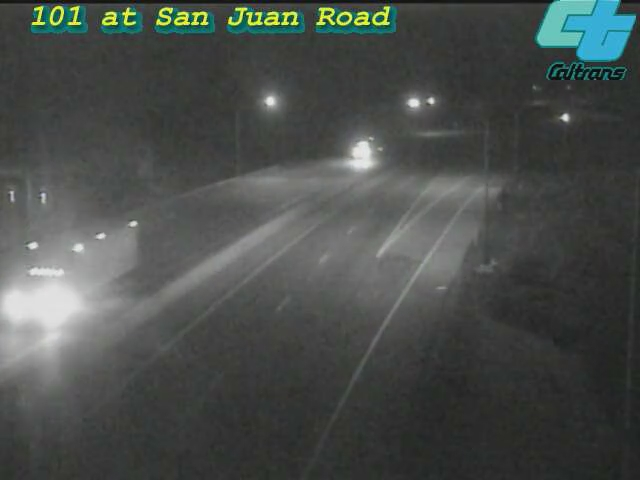vehicle: (31, 231, 111, 311), (325, 112, 405, 192), (541, 92, 591, 142)
